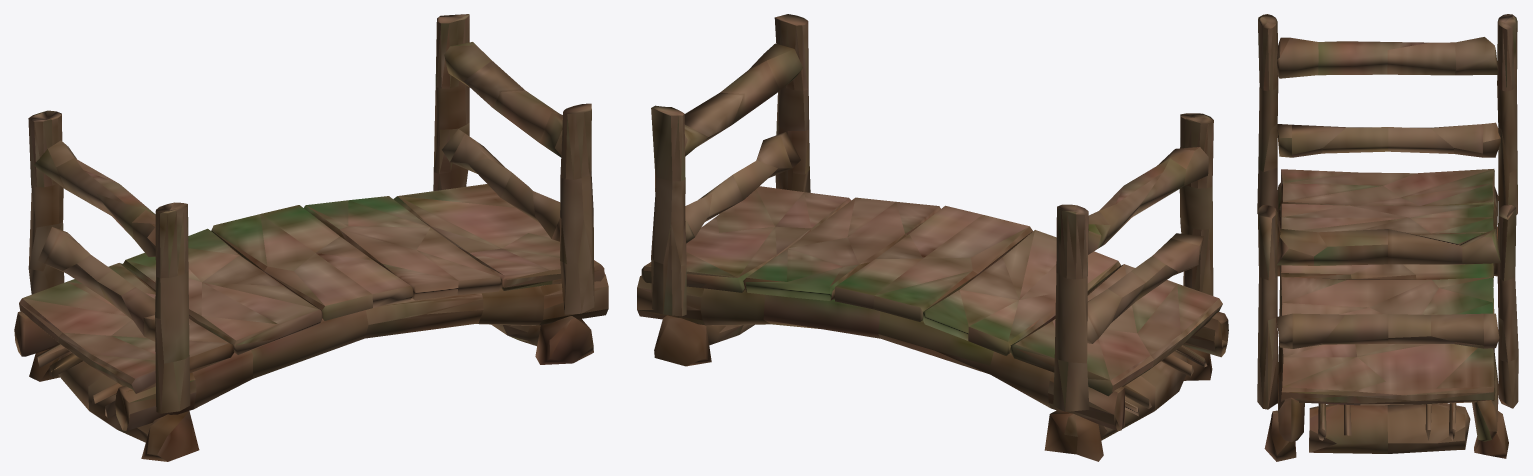
File: Bridge.lod2.glb
The picture shows the model from 3 angles, left to right: view 1: azimuth 30°, elevation 25°; view 2: azimuth 150°, elevation 25°; view 3: azimuth 270°, elevation 25°; orthographic projection. The views are drawn at different scales.
Size of the model in its own units: 4 by 2.05 by 1.97.
1 material, 1 textured.
